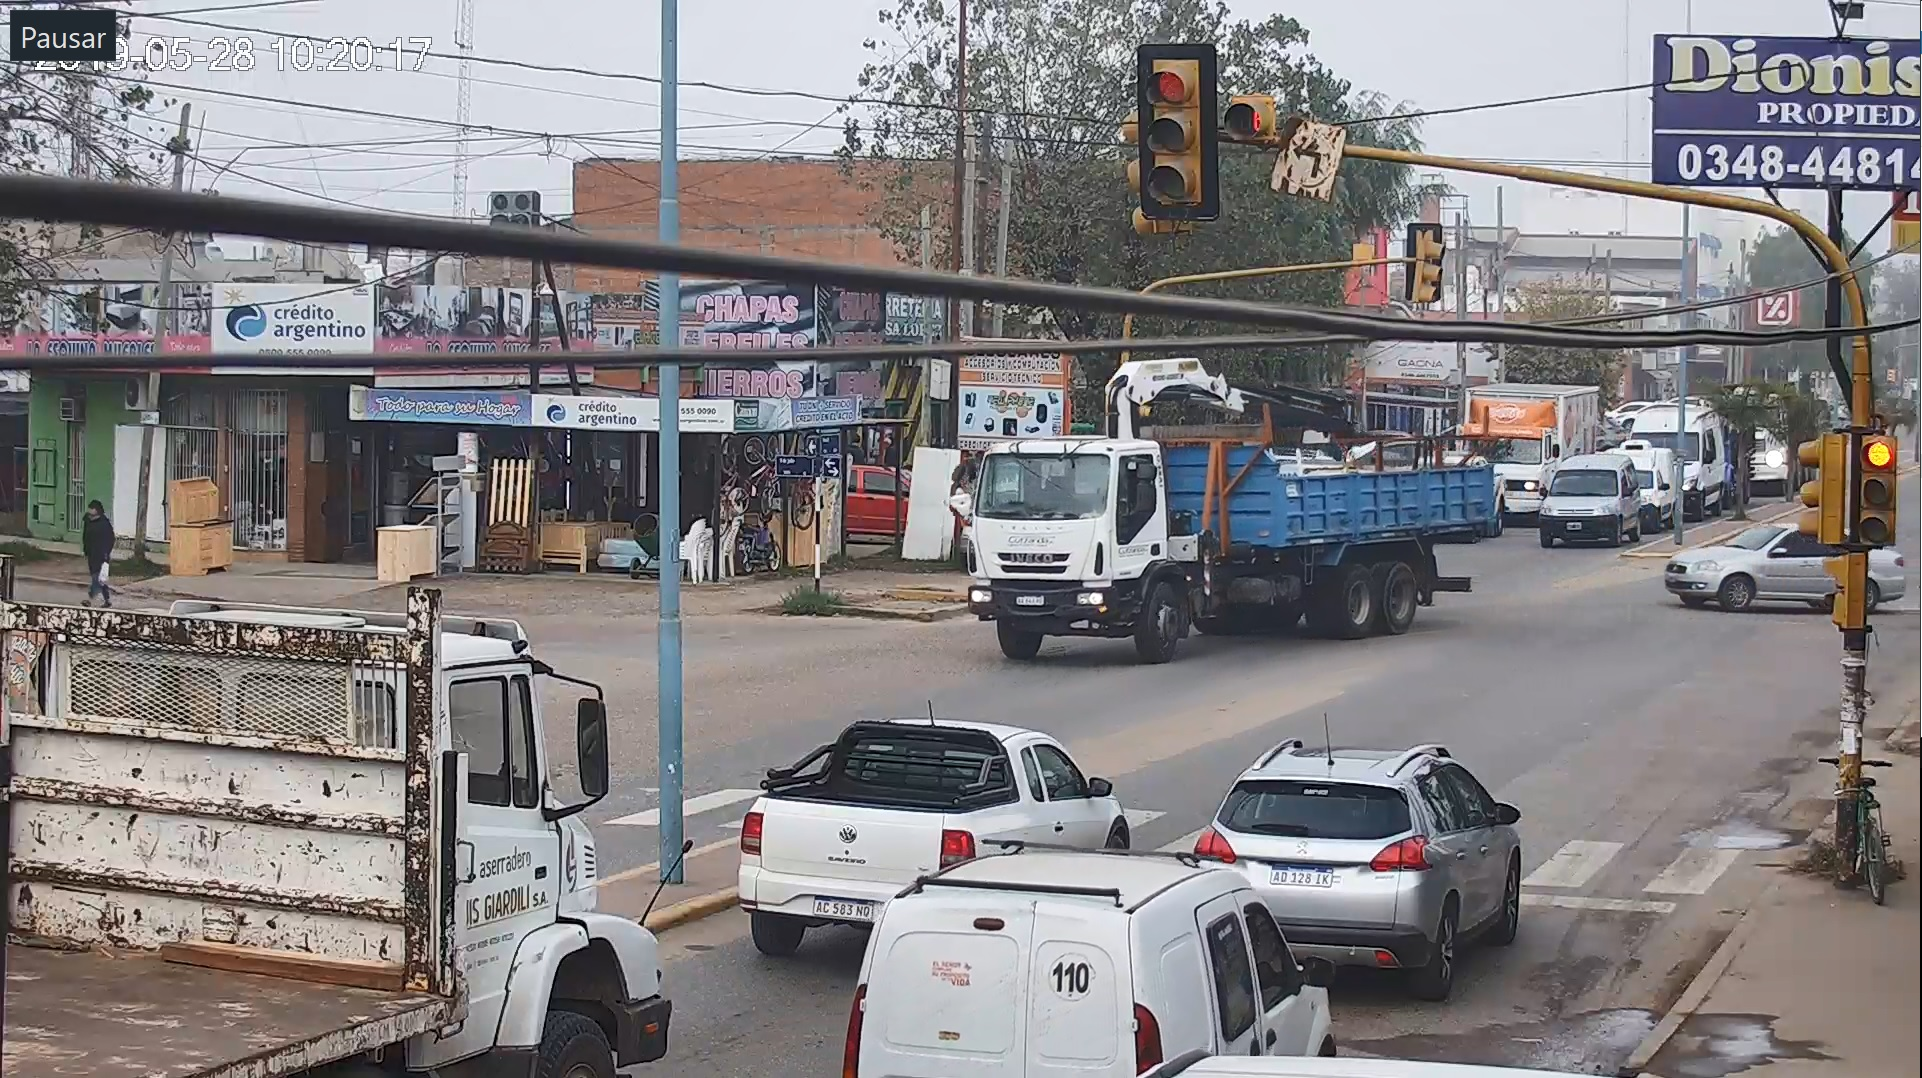car: (826, 838, 1349, 1078), (1183, 706, 1548, 1001), (727, 699, 1144, 957), (1526, 431, 1641, 555)
truck: (941, 358, 1500, 669)
